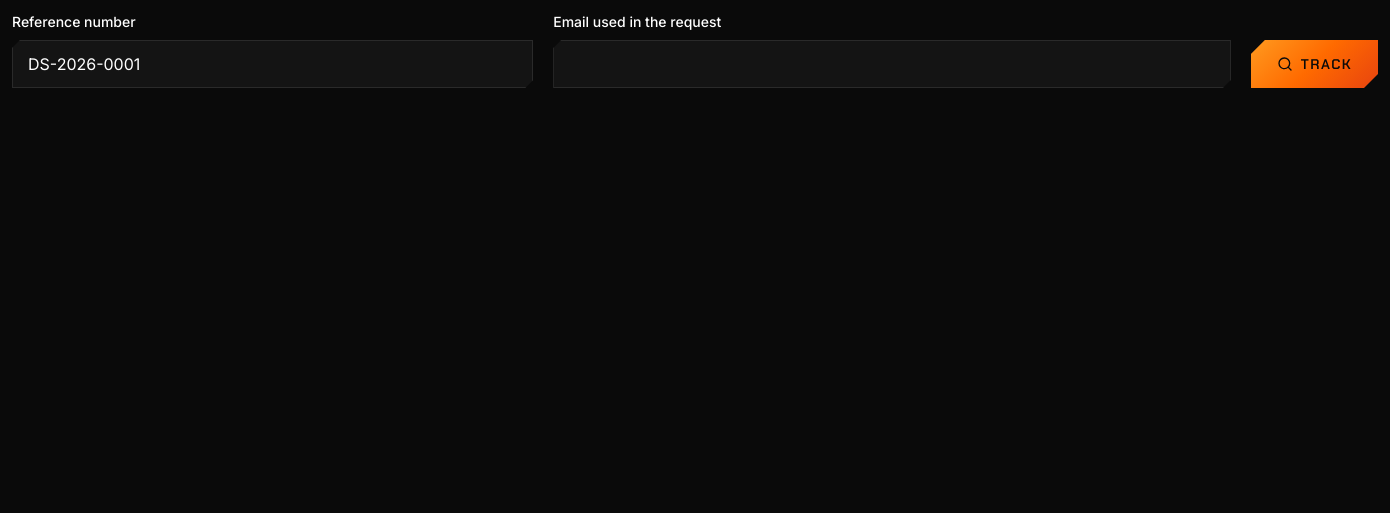
it: TrackForm › prefills the reference from ?ref= and shows status + timeline
expect the field labelled "Reference number" holds "DS-2026-0001": met, box [12,40,533,88]
Type "demo@example.com" into the field labelled "Email used in the request" at (892, 64), box [553,40,1231,88]
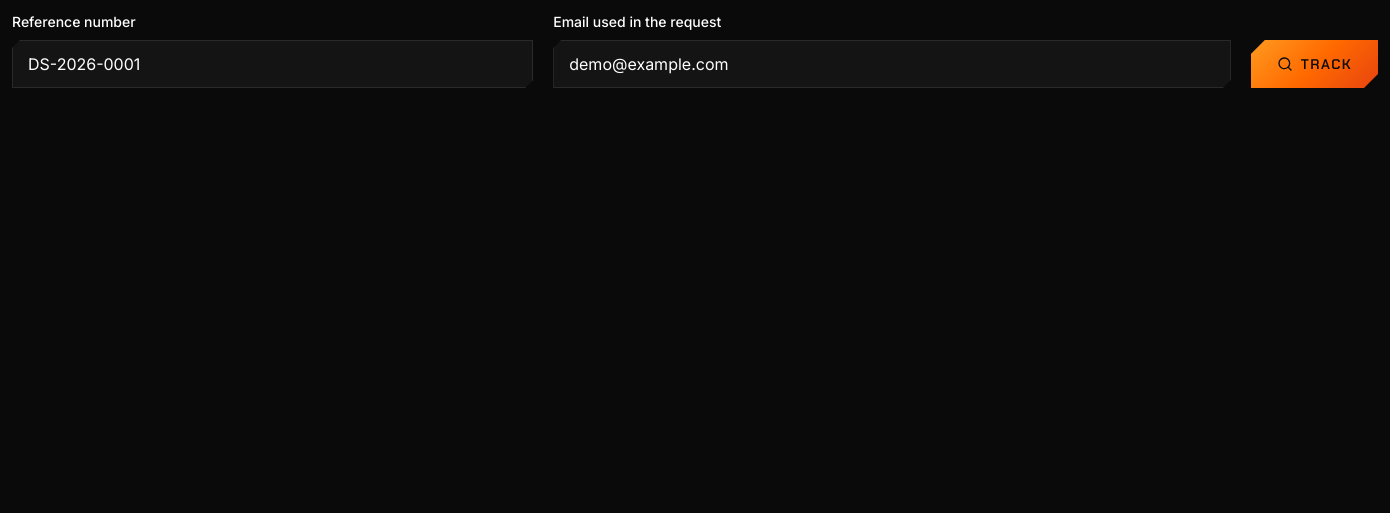
Click the button "Track" at (1314, 64), box [1251,40,1378,88]
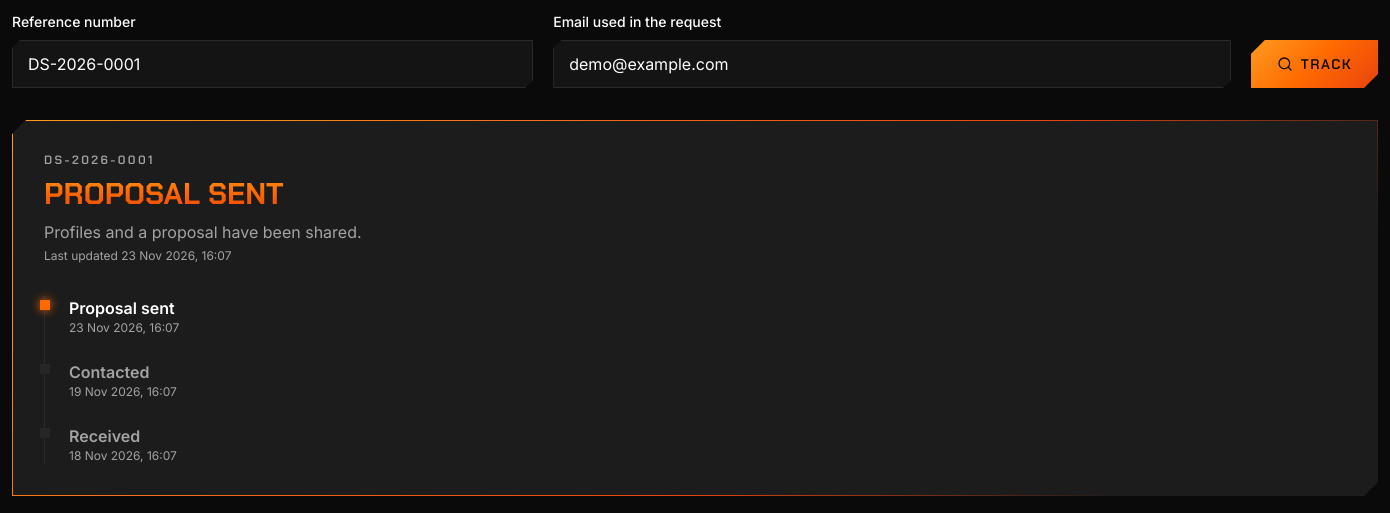
expect the heading "Proposal sent" is shown: met, box [44,174,284,213]
expect the number of list items is 3: met, box [69,298,179,335]; [69,362,177,399]; [69,426,177,463]
